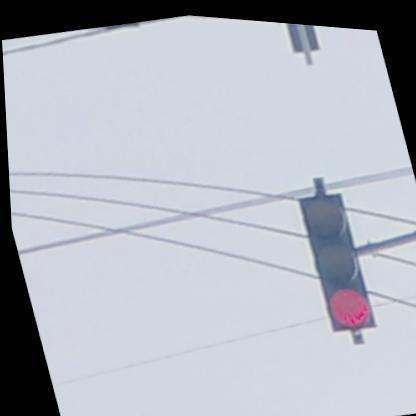red: (294, 184, 375, 330)
